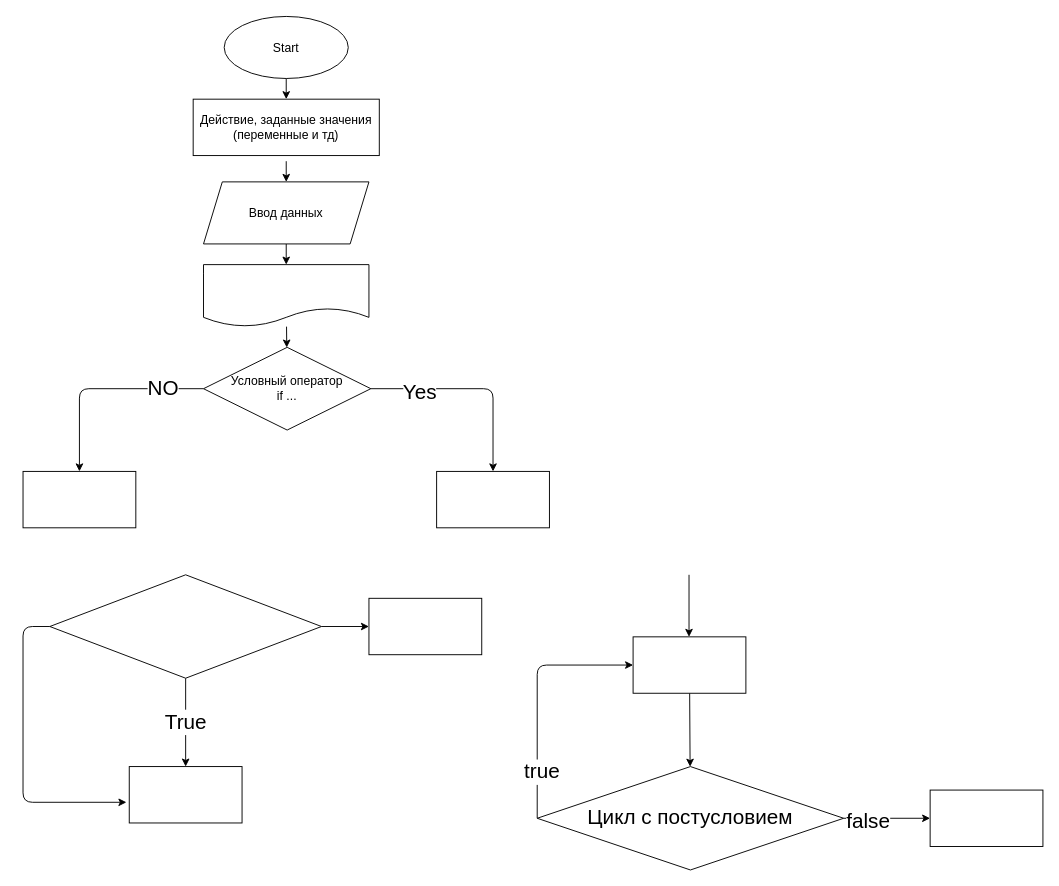
Image size: 1059x886. Some labels were removed from this diagram. Each missing label, with the box of its shape:
Печать на экран (вывод данных): (203, 264, 369, 327)
Цикл с предусловием: (49, 574, 321, 678)
